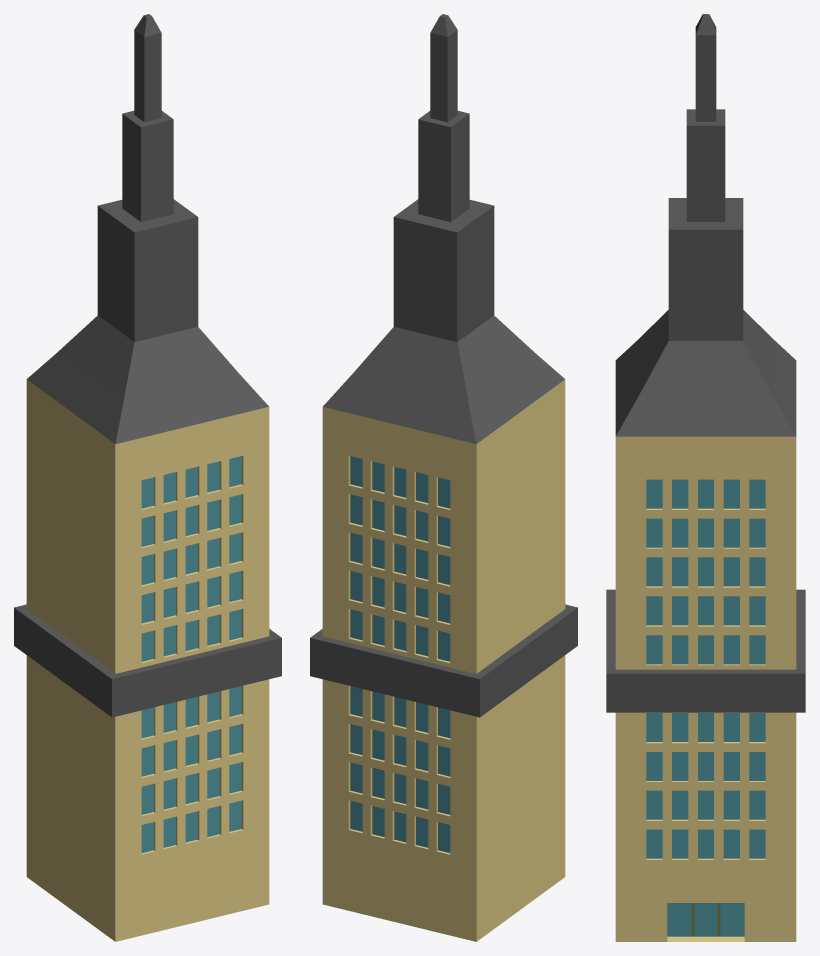
The model's file is building_6.fbx.
The picture shows the model from 3 angles, left to right: view 1: azimuth 30°, elevation 25°; view 2: azimuth 150°, elevation 25°; view 3: azimuth 270°, elevation 25°; orthographic projection.
Visible parts, largest first — view 1: Building6; view 2: Building6; view 3: Building6.
Boxes of the visible parts, x1,y1,x2,y2 form: Building6: (14,14,281,941); Building6: (310,14,577,941); Building6: (606,14,805,941).
Bounding box in the file's own units: 597 × 2936 × 597.
